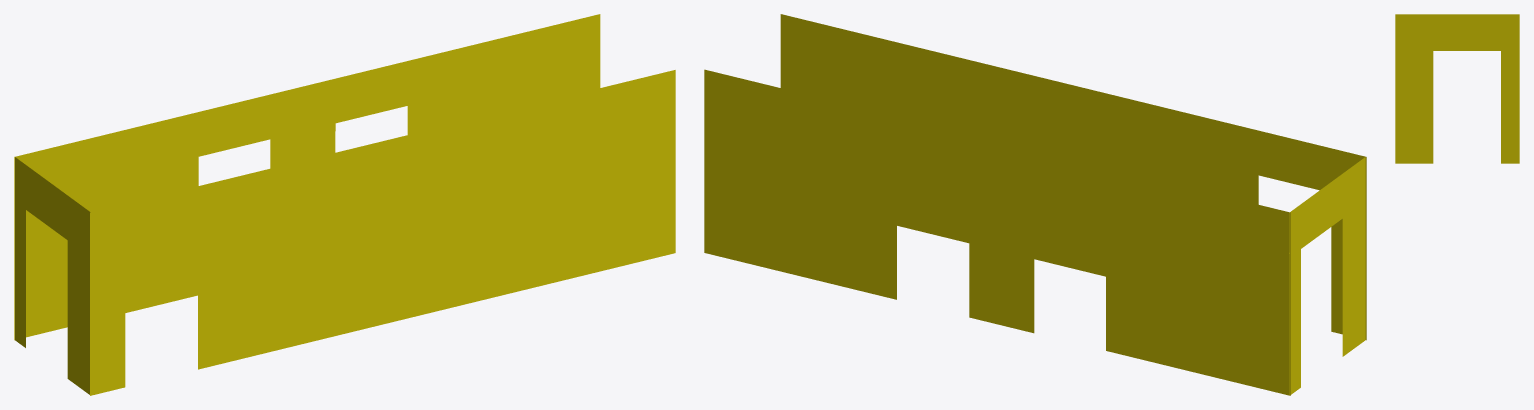
3 views of the same model, side by side, from view 1: azimuth 30°, elevation 25°; view 2: azimuth 150°, elevation 25°; view 3: azimuth 270°, elevation 25° (orthographic). The views are drawn at different scales.
Visible parts, largest first — view 1: BH05_WP_07; view 2: BH05_WP_07; view 3: BH05_WP_07.
Boxes of the visible parts, <box> form: BH05_WP_07: <box>14,14,675,395</box>; BH05_WP_07: <box>704,14,1366,395</box>; BH05_WP_07: <box>1395,14,1519,163</box>.
Size of the model in its own units: 982 by 294 by 222.
